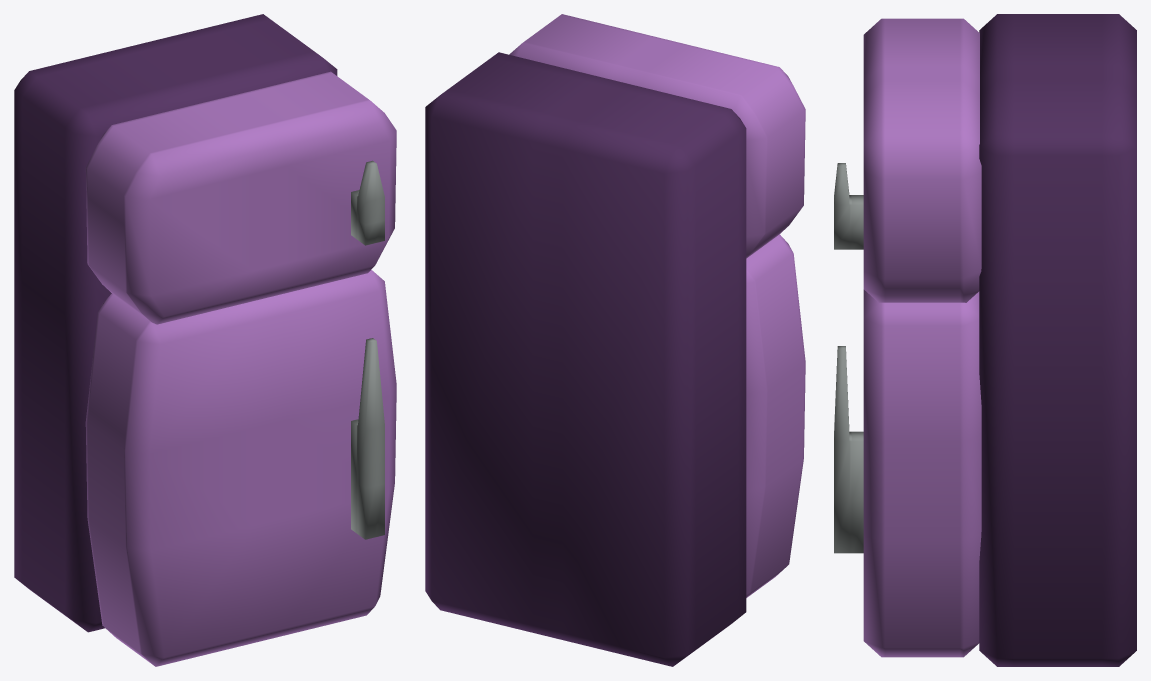
Rendered from refrigerador.obj.
3 views of the same model, side by side, from view 1: azimuth 30°, elevation 25°; view 2: azimuth 150°, elevation 25°; view 3: azimuth 270°, elevation 25° (orthographic). The views are drawn at different scales.
Parts seen in each view (by area): view 1: r1, Box001, r003, Box003, Box002; view 2: Box001, r003, r1; view 3: Box001, r1, r003, Box003, Box002.
Boxes of the visible parts, box(x1,y1,x2,y2) form: r1: box(85, 269, 396, 666); Box001: box(14, 14, 337, 632); r003: box(85, 71, 396, 324); Box003: box(351, 338, 384, 539); Box002: box(351, 160, 384, 245); Box001: box(425, 52, 746, 666); r003: box(509, 14, 805, 258); r1: box(746, 234, 805, 597); Box001: box(979, 14, 1136, 666); r1: box(863, 289, 981, 657); r003: box(863, 18, 981, 302); Box003: box(834, 346, 863, 553); Box002: box(834, 163, 863, 249).
Size of the model in its own units: 32.34 by 59.06 by 30.28.
Materials: 3 (3 with a texture image).
